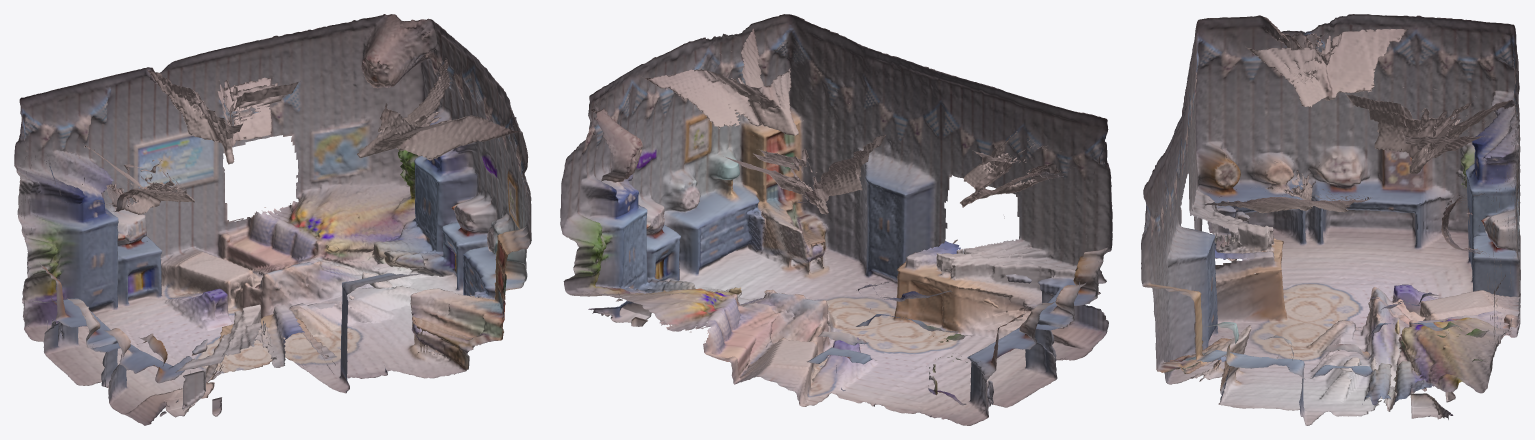
File: ac-gullivers-office_collider.glb
3 renders of one model, left to right at view 1: azimuth 30°, elevation 25°; view 2: azimuth 150°, elevation 25°; view 3: azimuth 270°, elevation 25°, orthographic. The views are drawn at different scales.
Visible parts, largest first — view 1: world; view 2: world; view 3: world.
Boxes of the visible parts, x1,y1,x2,y2 form: world: (14,14,531,425); world: (560,14,1112,425); world: (1141,14,1520,425).
Bounding box in the file's own units: 8.9 × 4.63 × 6.77.
